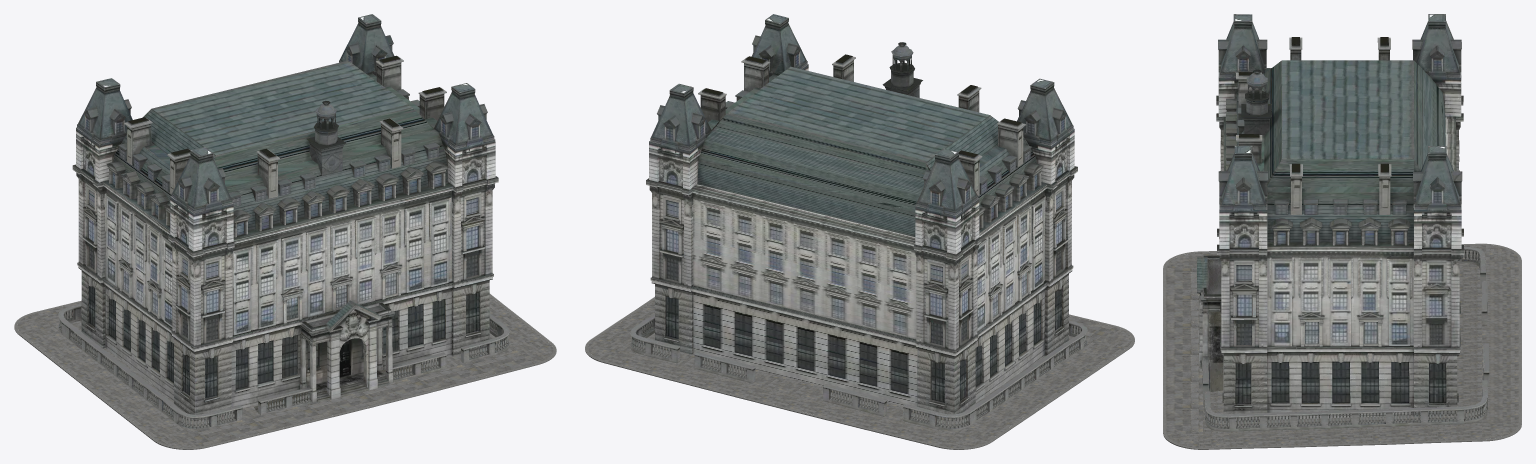
Rendered from free_london_kinnaird_house.glb.
3 renders of one model, left to right at view 1: azimuth 30°, elevation 25°; view 2: azimuth 150°, elevation 25°; view 3: azimuth 270°, elevation 25°, orthographic. The views are drawn at different scales.
Visible parts, largest first — view 1: Building_London_Building_0, Plane.001_Sidewalk_0, Plane.002_Sidewalk_Curb_0; view 2: Building_London_Building_0, Plane.001_Sidewalk_0, Plane.002_Sidewalk_Curb_0; view 3: Building_London_Building_0, Plane.001_Sidewalk_0, Plane.002_Sidewalk_Curb_0.
Boxes of the visible parts, x1,y1,x2,y2 form: Building_London_Building_0: [58, 14, 509, 429]; Plane.001_Sidewalk_0: [17, 296, 553, 447]; Plane.002_Sidewalk_Curb_0: [14, 293, 556, 449]; Building_London_Building_0: [630, 14, 1087, 430]; Plane.001_Sidewalk_0: [588, 299, 1131, 447]; Plane.002_Sidewalk_Curb_0: [585, 297, 1134, 449]; Building_London_Building_0: [1197, 14, 1489, 431]; Plane.001_Sidewalk_0: [1166, 245, 1518, 447]; Plane.002_Sidewalk_Curb_0: [1163, 243, 1521, 449].
Bounding box in the file's own units: 51.48 × 33.84 × 39.04.
Materials: 3 (3 with a texture image).
